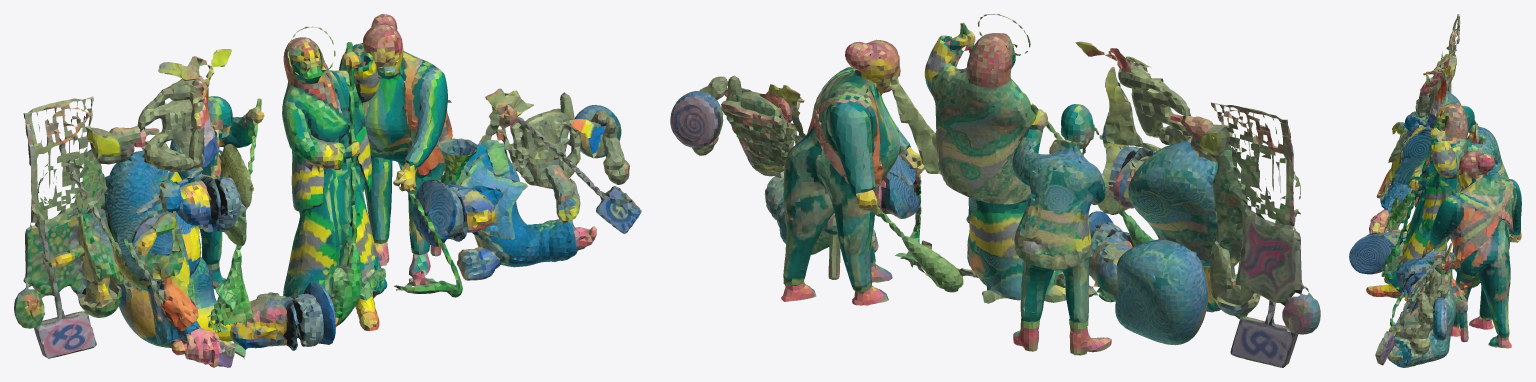
The model's file is combined_AA.glb.
3 views of the same model, side by side, from view 1: azimuth 30°, elevation 25°; view 2: azimuth 150°, elevation 25°; view 3: azimuth 270°, elevation 25° (orthographic). The views are drawn at different scales.
Parts seen in each view (by area): view 1: irloAA; view 2: irloAA; view 3: irloAA.
Boxes of the visible parts, left/top/right/bottom form: irloAA: left=14, top=14, right=641, bottom=367; irloAA: left=670, top=14, right=1320, bottom=367; irloAA: left=1349, top=14, right=1521, bottom=367.
Size of the model in its own units: 0.9987 by 0.4342 by 0.3399.
Materials: 1 (1 with a texture image).
